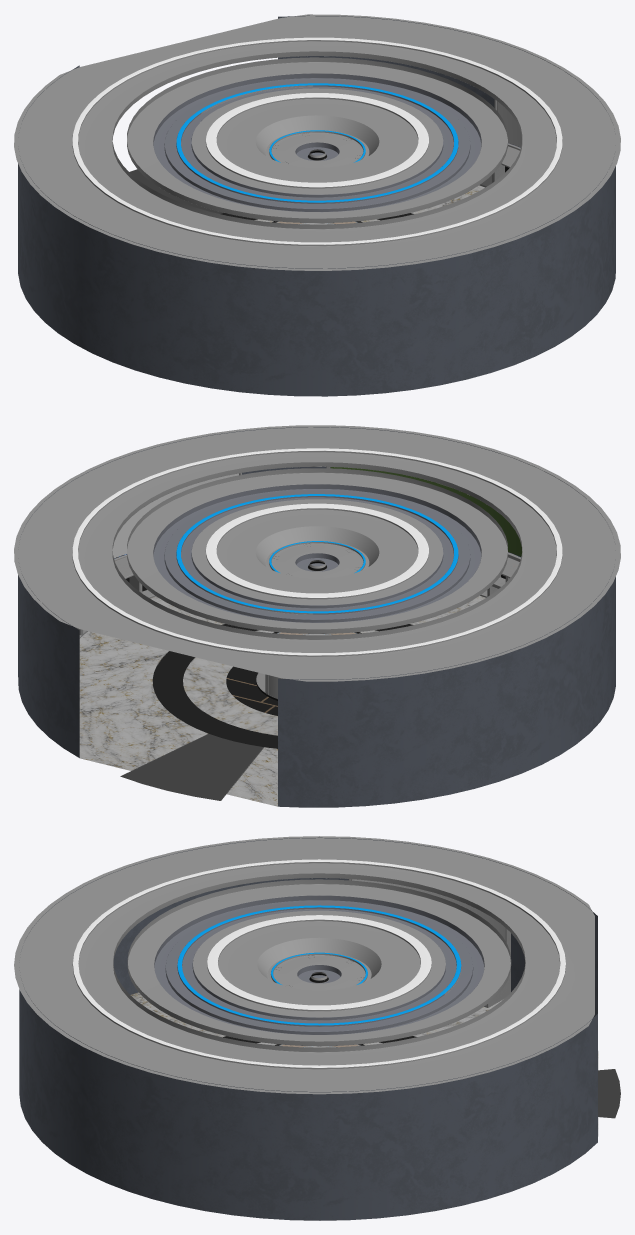
The model's file is LabSet.fbx.
The picture shows the model from 3 angles, top to bottom: view 1: azimuth 30°, elevation 25°; view 2: azimuth 150°, elevation 25°; view 3: azimuth 270°, elevation 25°; orthographic projection.
Parts seen in each view (by area): view 1: Round_Falsceiling 3, Round_Wall 1, Round_Falsceiling 2, Rack_And_Frame 2, Material.001 1; view 2: Round_Falsceiling 3, Round_Wall 1, Round_Floor 5, Round_Floor 3, Round_Falsceiling 2, Round_Floor 1, Round_Floor 4, Round_Floor 2, Material 1, Material.001 1, Rack_And_Frame 2, Rack_And_Frame 1; view 3: Round_Falsceiling 3, Round_Wall 1, Round_Falsceiling 2, Round_Floor 3, Round_Floor 5, Material.001 1.
Part boxes in pixels (box(x1,y1,x2,y2)): Round_Falsceiling 3: box(14, 14, 620, 270); Round_Wall 1: box(18, 15, 615, 396); Round_Falsceiling 2: box(230, 105, 404, 178); Rack_And_Frame 2: box(479, 99, 520, 187); Material.001 1: box(497, 102, 522, 147); Round_Falsceiling 3: box(14, 425, 620, 681); Round_Wall 1: box(18, 427, 615, 807); Round_Floor 5: box(79, 595, 485, 806); Round_Floor 3: box(120, 733, 263, 800); Round_Falsceiling 2: box(230, 515, 404, 588); Round_Floor 1: box(152, 624, 413, 748); Round_Floor 4: box(183, 630, 378, 735); Round_Floor 2: box(226, 666, 277, 715); Material 1: box(330, 467, 522, 556); Material.001 1: box(112, 473, 239, 558); Rack_And_Frame 2: box(75, 473, 241, 638); Rack_And_Frame 1: box(326, 467, 521, 597); Round_Falsceiling 3: box(14, 836, 594, 1094); Round_Wall 1: box(19, 837, 597, 1220); Round_Falsceiling 2: box(232, 927, 406, 1000); Round_Floor 3: box(598, 1069, 620, 1118); Round_Floor 5: box(130, 992, 598, 1136); Material.001 1: box(351, 879, 505, 940).
Size of the model in its own units: 12.19 by 2.93 by 12.11.
